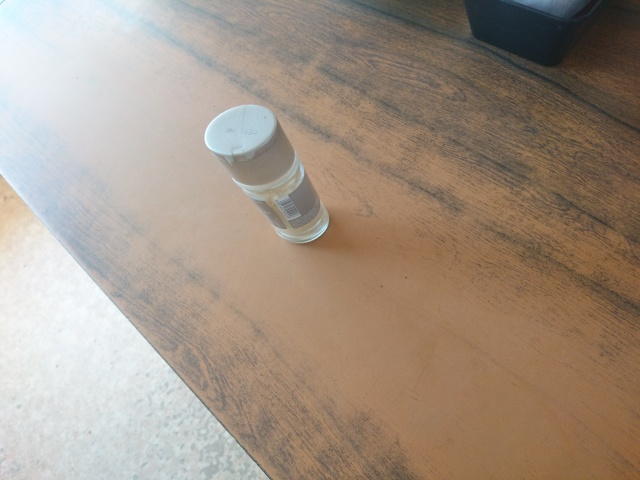Kotanyi Garlic Granules 70g: (202, 102, 332, 248)
